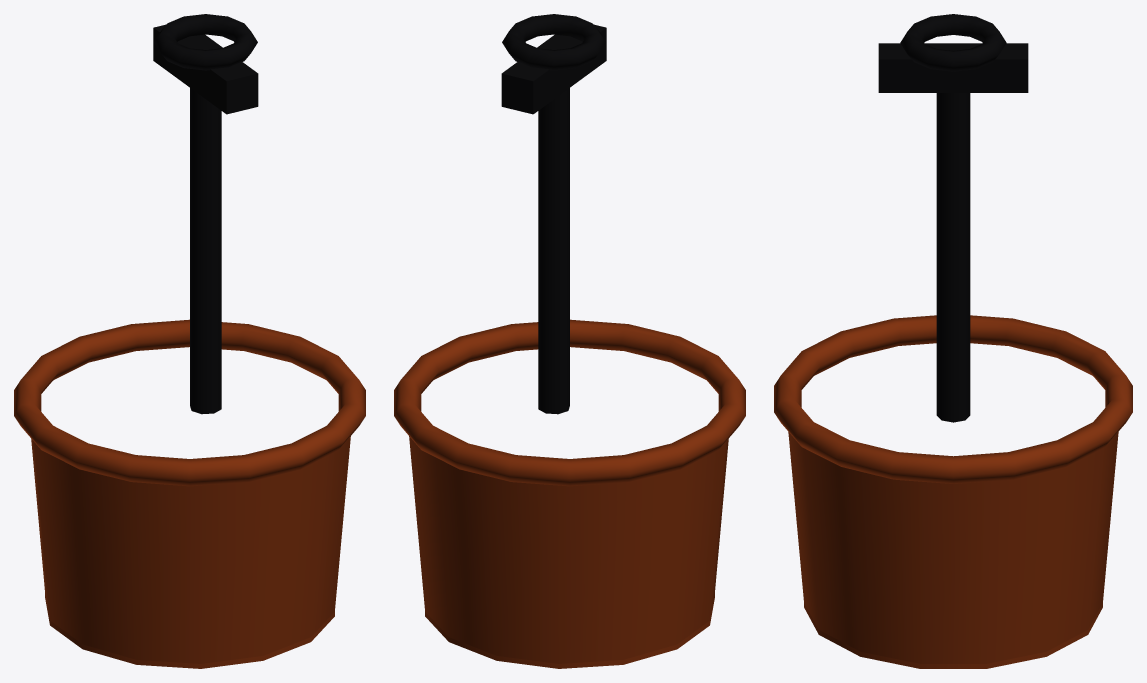
Rendered from copper_pot.glb.
3 views of the same model, side by side, from view 1: azimuth 30°, elevation 25°; view 2: azimuth 150°, elevation 25°; view 3: azimuth 270°, elevation 25° (orthographic). The views are drawn at different scales.
Parts seen in each view (by area): view 1: copper_pot; view 2: copper_pot; view 3: copper_pot.
Boxes of the visible parts, x1=… form: copper_pot: x1=14, y1=14, x2=365, y2=668; copper_pot: x1=394, y1=14, x2=745, y2=668; copper_pot: x1=774, y1=14, x2=1132, y2=668.
Bounding box in the file's own units: 0.39 × 0.6874 × 0.3841.
